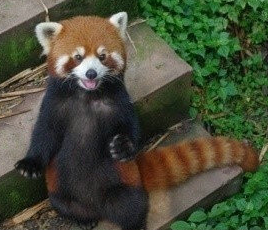raccoon: (1, 12, 259, 229)
